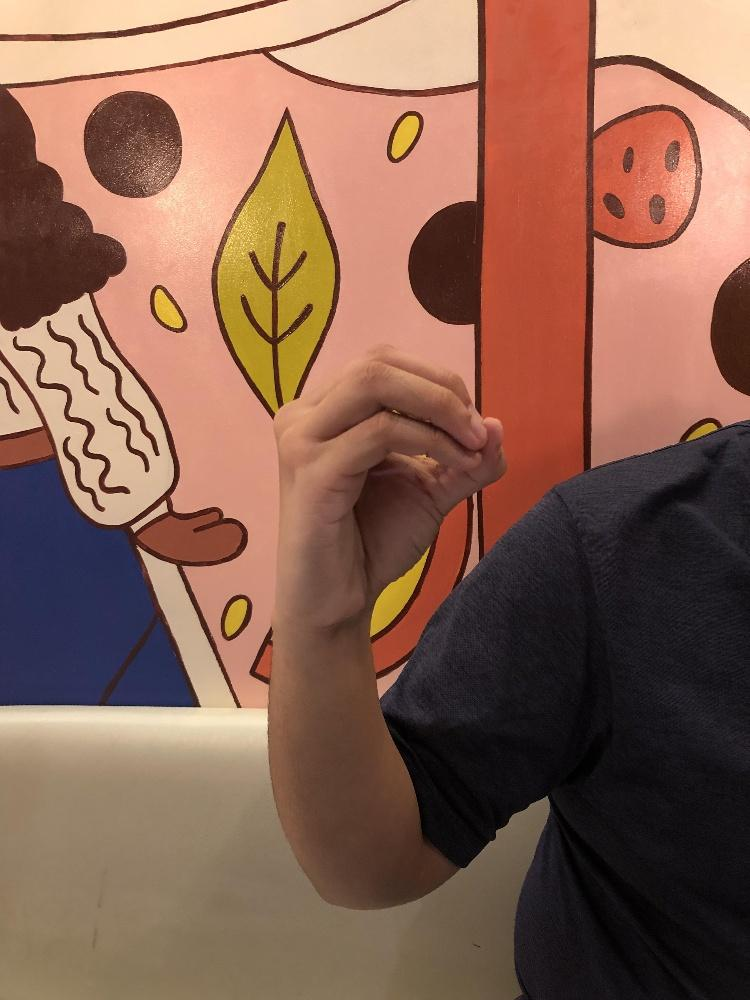o: (268, 337, 510, 627)
